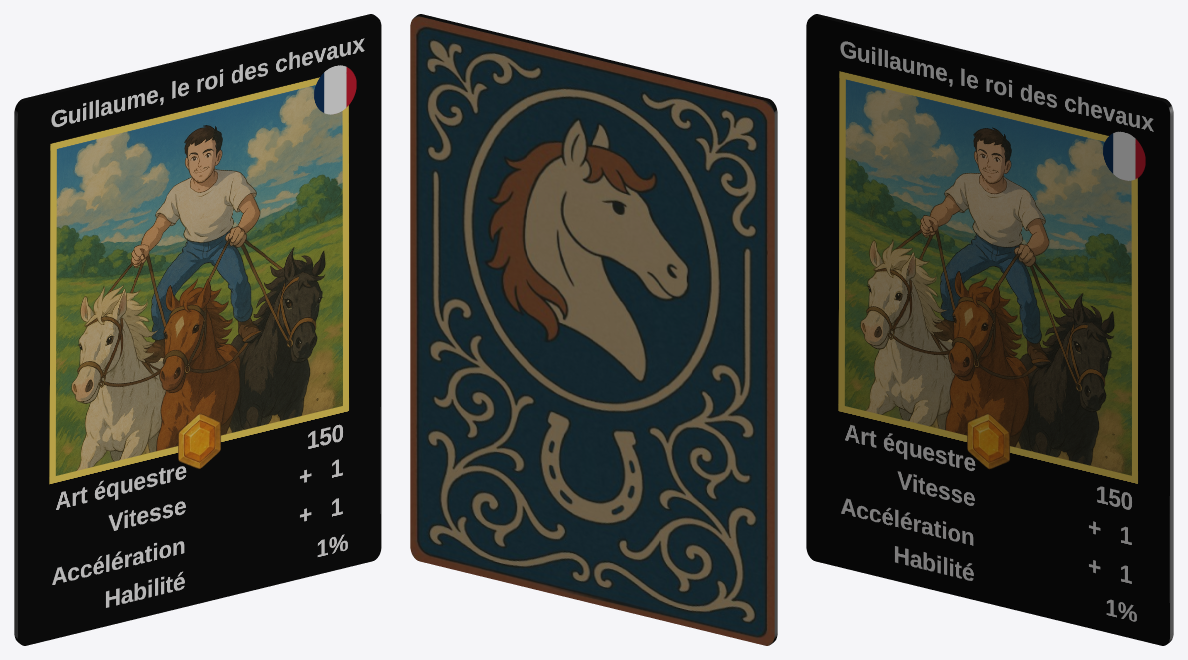
File: Guillaume.glb
3 renders of one model, left to right at view 1: azimuth 30°, elevation 25°; view 2: azimuth 150°, elevation 25°; view 3: azimuth 330°, elevation 25°, orthographic.
Visible parts, largest first — view 1: Plane; view 2: Plane; view 3: Plane.
Boxes of the visible parts, x1,y1,x2,y2 form: Plane: [14, 14, 381, 645]; Plane: [410, 14, 777, 645]; Plane: [806, 14, 1173, 645].
Bounding box in the file's own units: 3.5 × 5 × 0.05.
2 materials, 2 textured.
